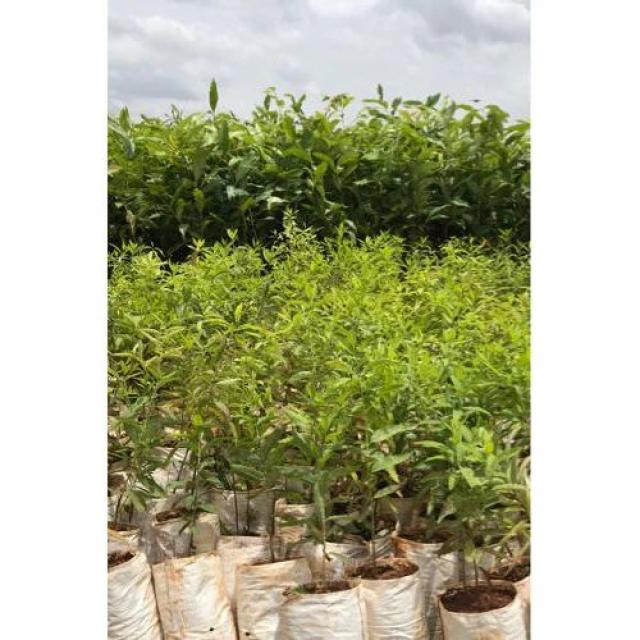Medicinal-Sandalwood: (113, 221, 524, 525), (104, 66, 526, 232)
